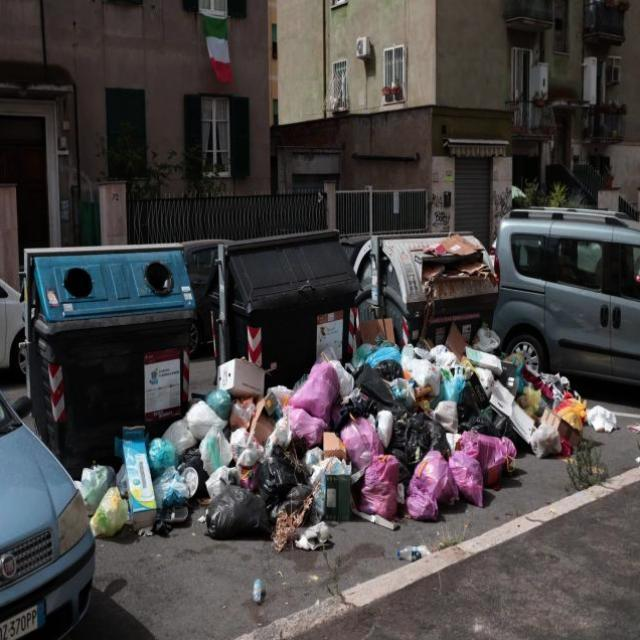garbage: (84, 322, 593, 530)
